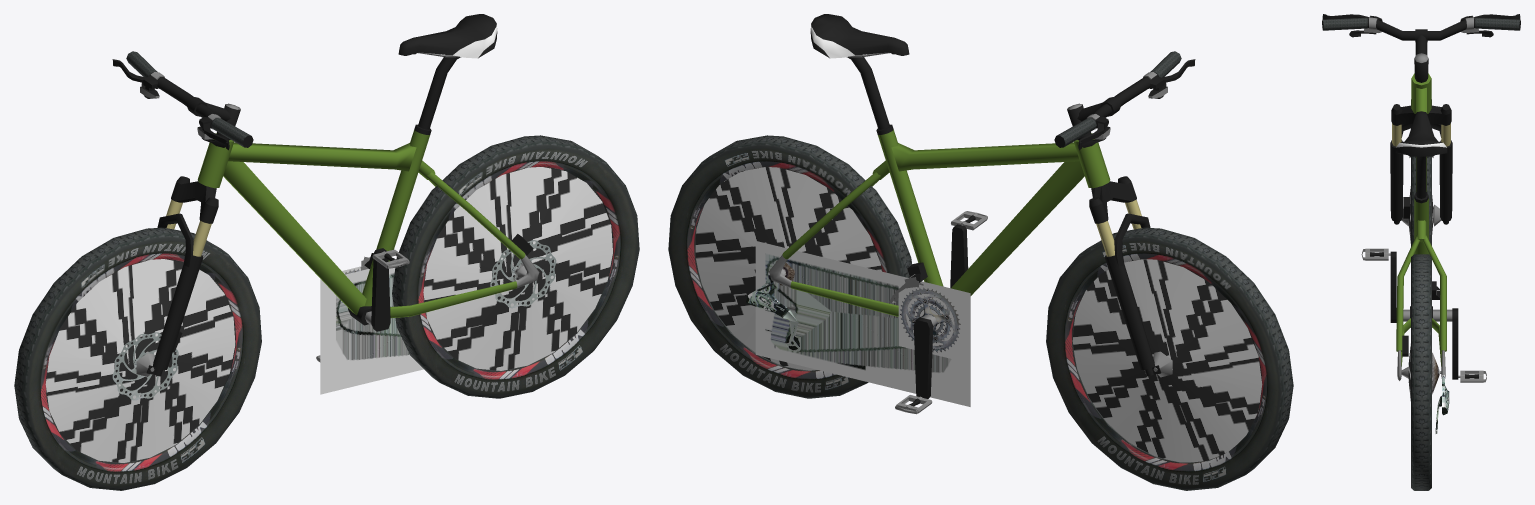
File: bike_vtt_LOD_03.FBX
3 views of the same model, side by side, from view 1: azimuth 30°, elevation 25°; view 2: azimuth 150°, elevation 25°; view 3: azimuth 270°, elevation 25° (orthographic). The views are drawn at different scales.
Visible parts, largest first — view 1: bike_wheel_AV02, bike_wheel_AR02, bike_base02, bike_handlebar02, bike_pedalier02; view 2: bike_wheel_AV02, bike_base02, bike_wheel_AR02, bike_handlebar02, bike_pedalier02; view 3: bike_handlebar02, bike_base02, bike_wheel_AR02, bike_pedalier02, bike_wheel_AV02, bike_pedale_L02, bike_pedale_R02.
Part boxes in pixels (x1,y1,x2,y2): bike_wheel_AV02: (14,227,261,490); bike_wheel_AR02: (392,135,639,398); bike_base02: (197,14,539,394); bike_handlebar02: (112,51,253,376); bike_pedalier02: (320,248,390,331); bike_wheel_AV02: (1046,227,1293,490); bike_base02: (746,14,1110,406); bike_wheel_AR02: (668,135,912,398); bike_handlebar02: (1054,51,1195,376); bike_pedalier02: (898,224,968,398); bike_handlebar02: (1322,14,1520,224); bike_base02: (1395,73,1449,433); bike_wheel_AR02: (1401,254,1441,490); bike_pedalier02: (1390,251,1458,379); bike_wheel_AV02: (1401,99,1441,254); bike_pedale_L02: (1361,248,1390,260); bike_pedale_R02: (1458,370,1486,382).
Bounding box in the file's own units: 176 × 104 × 57.48.
